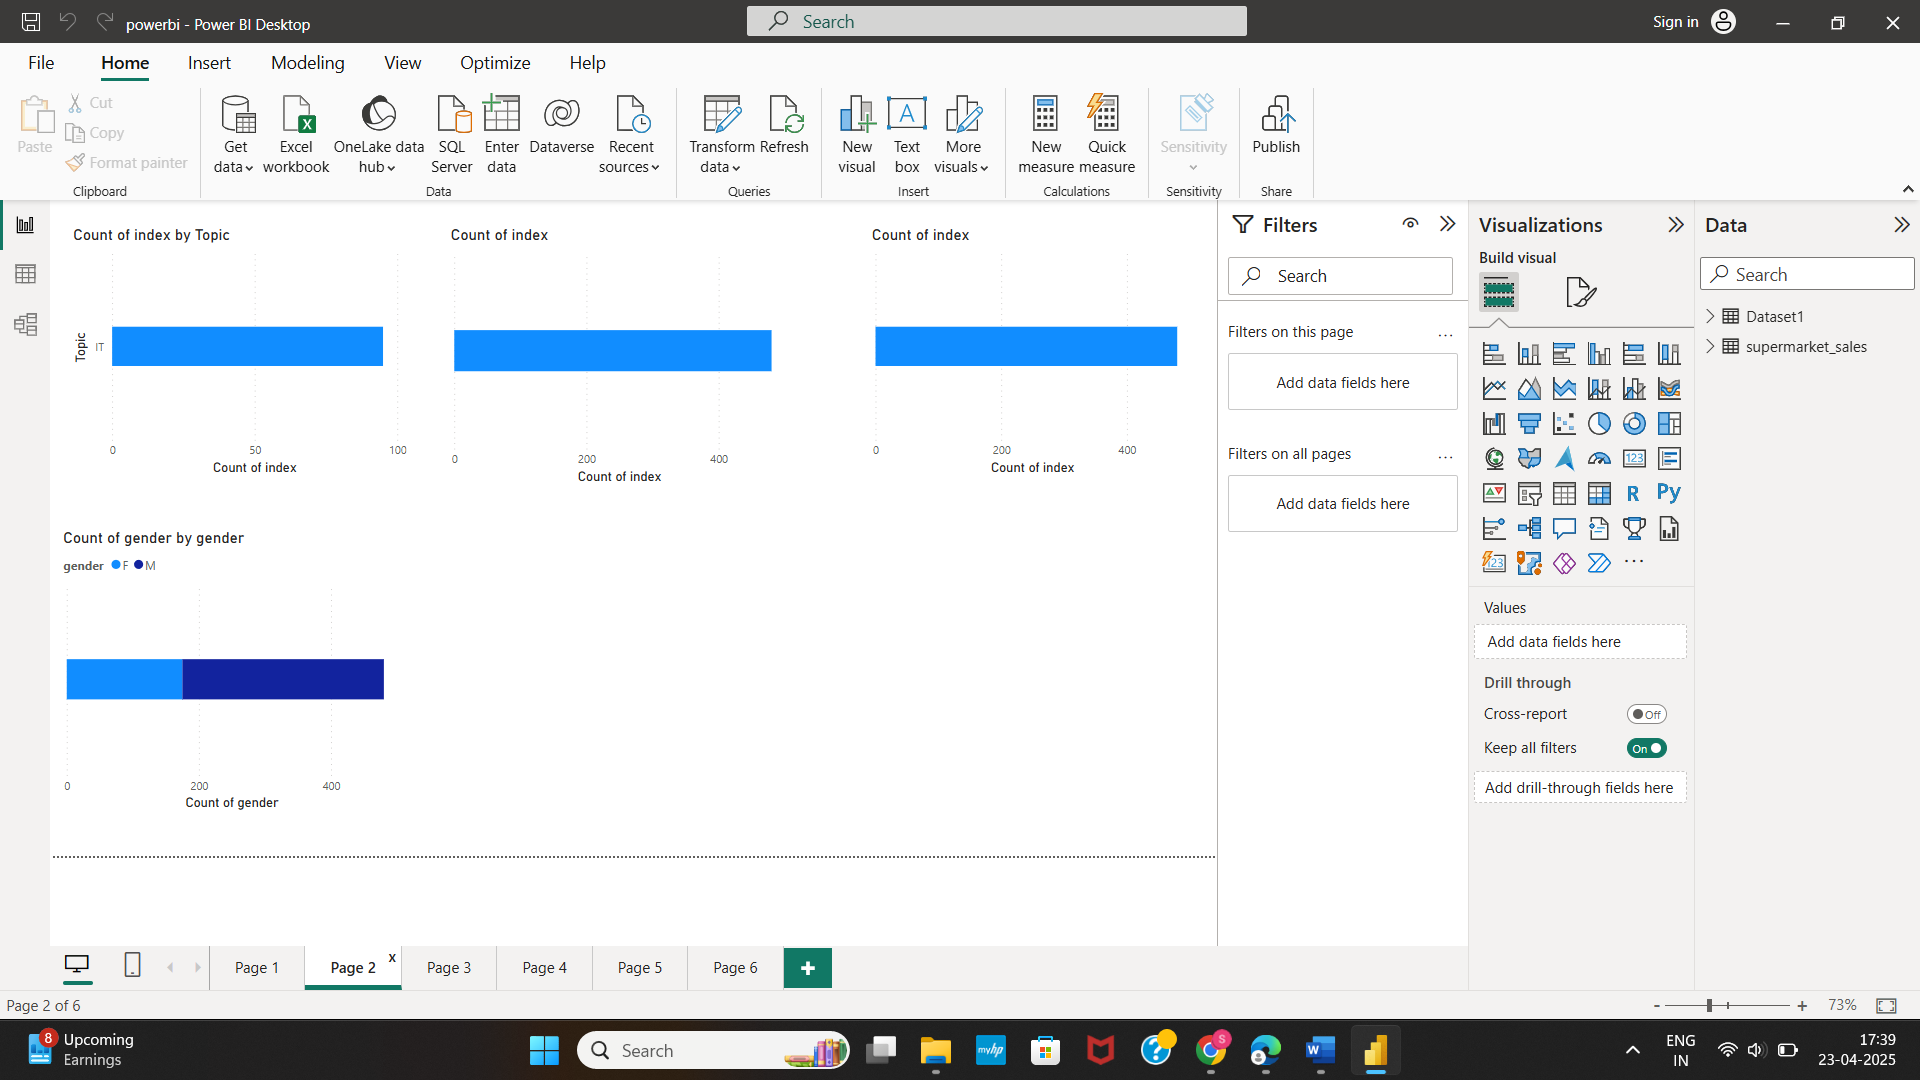

Layout of this report page (visuals, bound fields, positions):
{"tool":"powerbi","page":{"name":"Page 2","canvas":[1280,720],"ordinal":1},"visuals":[{"type":"barChart","fields":{"Category":["Dataset1.Topic"],"Y":["CountNonNull(Dataset1.index)"]},"box":[20.6,27.4,375.7,279.7],"z":0},{"type":"barChart","fields":{"Y":["CountNonNull(Dataset1.index)"]},"box":[434.6,27.4,386.6,289.3],"z":1000},{"type":"barChart","fields":{"Y":["CountNonNull(Dataset1.index)"]},"box":[896.7,27.4,368.8,279.7],"z":2000},{"type":"barChart","fields":{"Y":["CountNonNull(Dataset1.gender)"],"Series":["Dataset1.gender"]},"box":[9.6,360.6,386.6,314],"z":3000}]}

Visuals, with their boxes on the page's 1280x720 design canvas (x1, y1, x2, y2). These are canvas units, not pixel positions in the 1920x1080 screenshot, which may show the page scaled, cropped or inside an application window:
barChart - Dataset1.Topic x CountNonNull(Dataset1.index): 21:27:396:307
barChart - CountNonNull(Dataset1.index): 435:27:821:317
barChart - CountNonNull(Dataset1.index): 897:27:1266:307
barChart - CountNonNull(Dataset1.gender) x Dataset1.gender: 10:361:396:675
